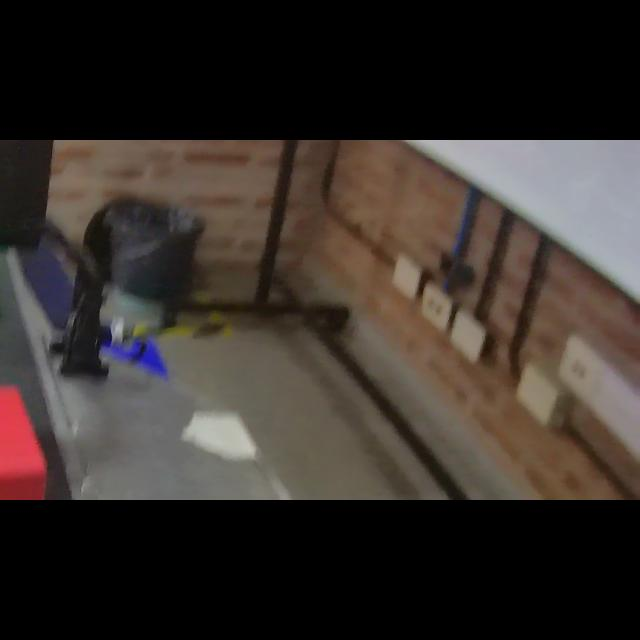greenBox: (0, 243, 2, 313)
redBox: (0, 384, 50, 500)
